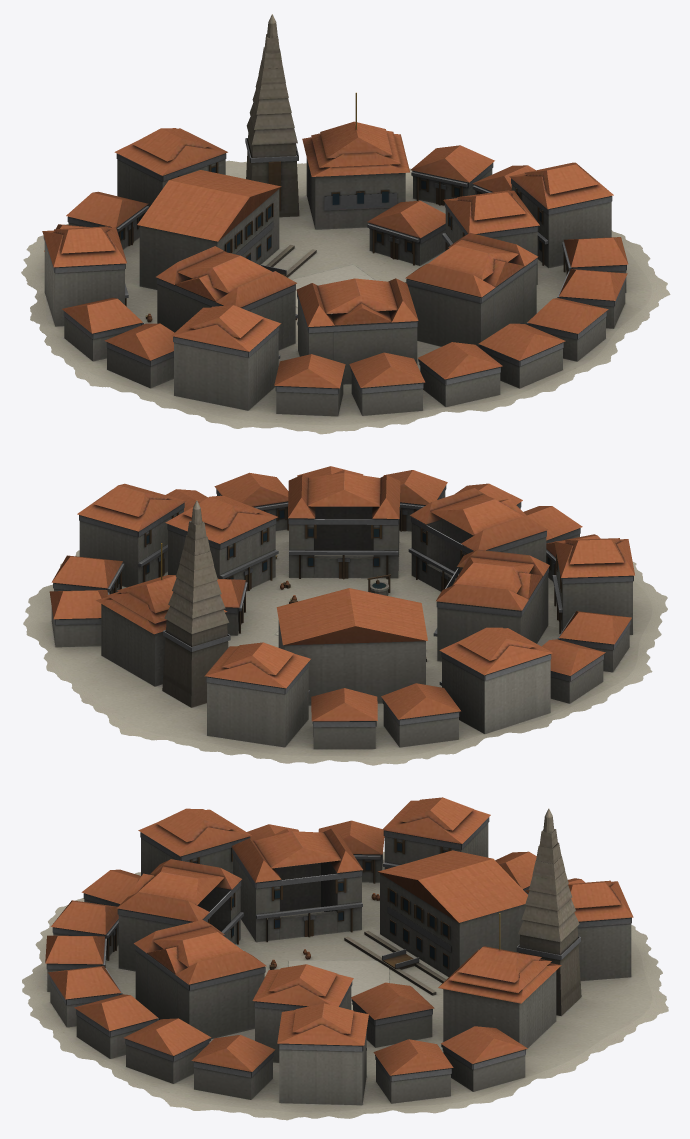
Rendered from gunpowder-town-big-b-monsoon.glb.
3 views of the same model, one above another, from view 1: azimuth 30°, elevation 25°; view 2: azimuth 150°, elevation 25°; view 3: azimuth 270°, elevation 25° (orthographic).
Parts seen in each view (by area): view 1: LOD0; view 2: LOD0; view 3: LOD0.
Boxes of the visible parts, left/top/right/bottom form: LOD0: left=21, top=14, right=670, bottom=434; LOD0: left=23, top=466, right=667, bottom=765; LOD0: left=22, top=797, right=668, bottom=1120.
Size of what is drawn, in the model's own units: 7.97 by 2.6 by 7.96.
3 materials, 3 textured.
